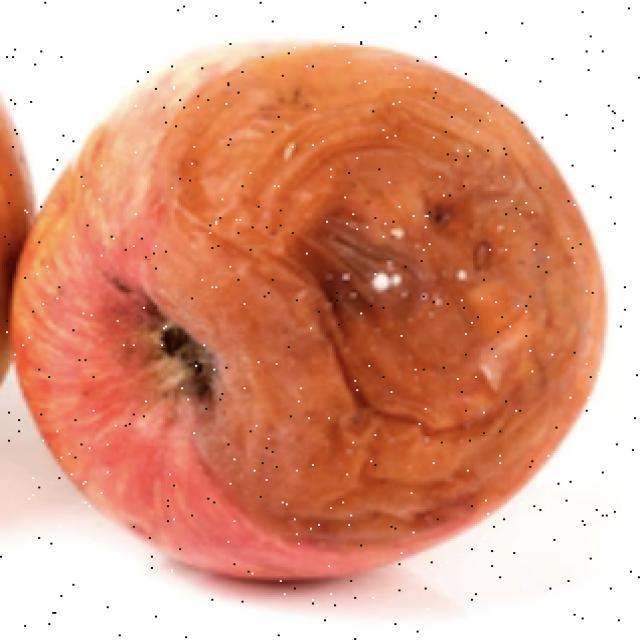Rotten: (15, 48, 595, 592)
